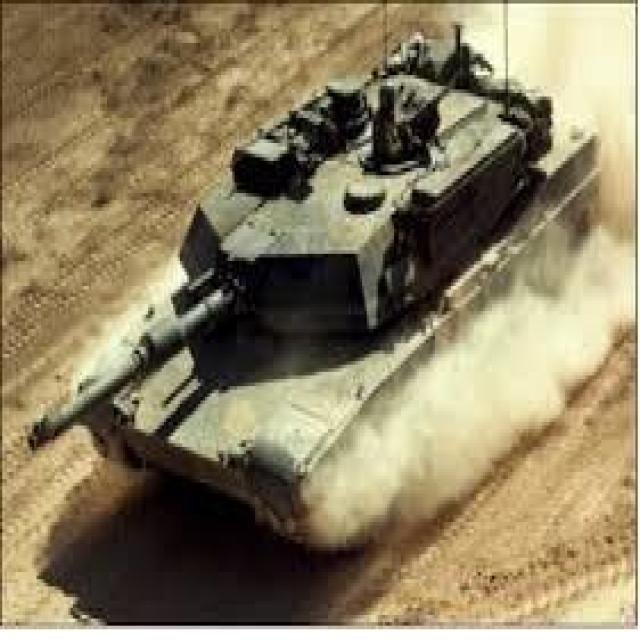Tanks: (28, 18, 604, 561)
